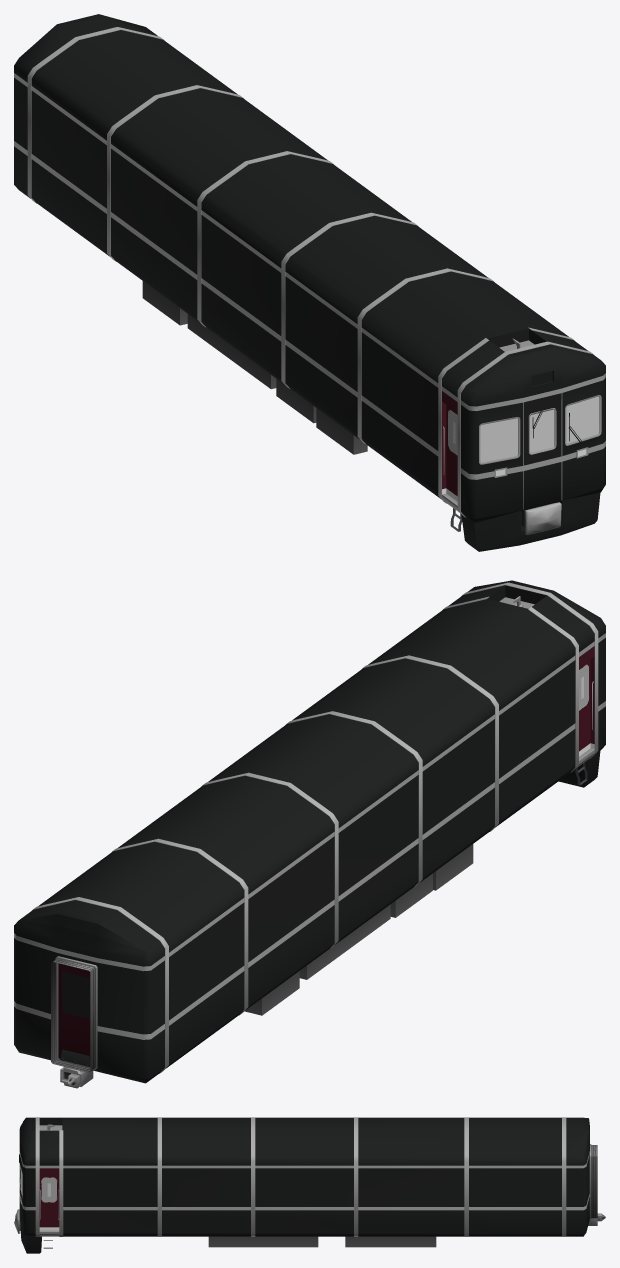
3 renders of one model, top to bottom at view 1: azimuth 30°, elevation 25°; view 2: azimuth 150°, elevation 25°; view 3: azimuth 270°, elevation 25°, orthographic. The views are drawn at different scales.
Visible parts, largest first — view 1: OBJ; view 2: OBJ; view 3: OBJ.
Part boxes in pixels (x1,y1,x2,y2): OBJ: [14, 14, 605, 551]; OBJ: [14, 580, 605, 1088]; OBJ: [14, 1117, 605, 1253].
Size of the model in its own units: 6.56 by 8.36 by 39.93.
Materials: 17 (16 with a texture image).
